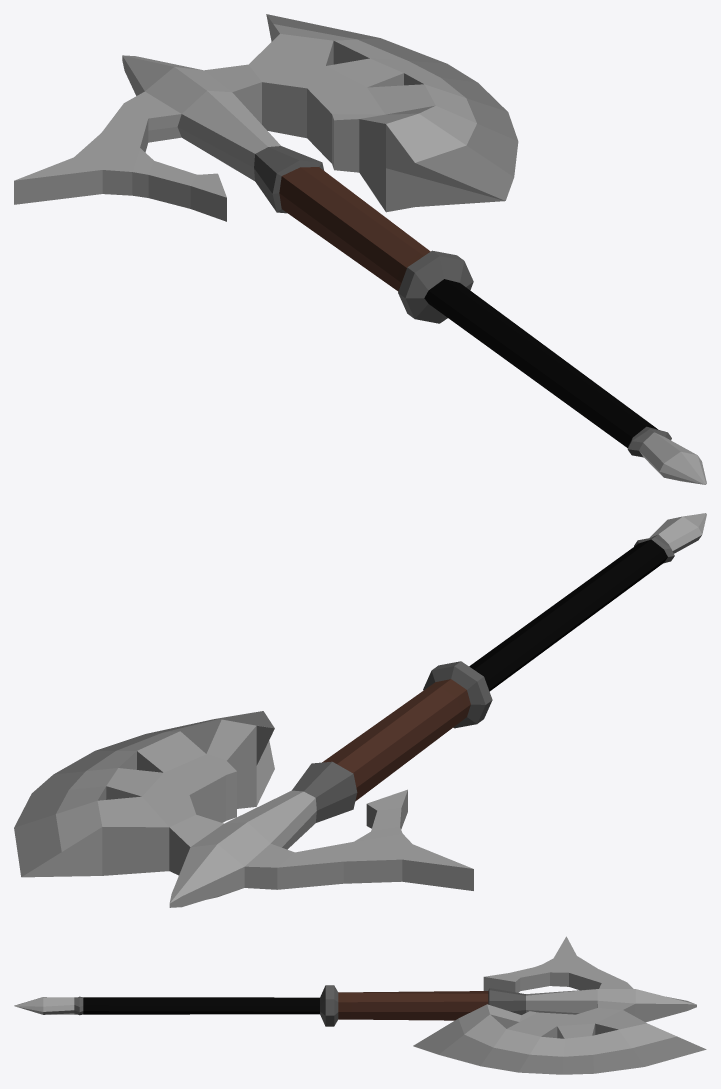
File: 21-Axe.fbx
3 views of the same model, one above another, from view 1: azimuth 30°, elevation 25°; view 2: azimuth 150°, elevation 25°; view 3: azimuth 270°, elevation 25° (orthographic). The views are drawn at different scales.
Visible parts, largest first — view 1: Weapon21; view 2: Weapon21; view 3: Weapon21.
Boxes of the visible parts, x1=… form: Weapon21: x1=14, y1=14, x2=706, y2=484; Weapon21: x1=14, y1=513, x2=706, y2=907; Weapon21: x1=14, y1=936, x2=706, y2=1074.
Size of the model in its own units: 226 by 41.4 by 503.
